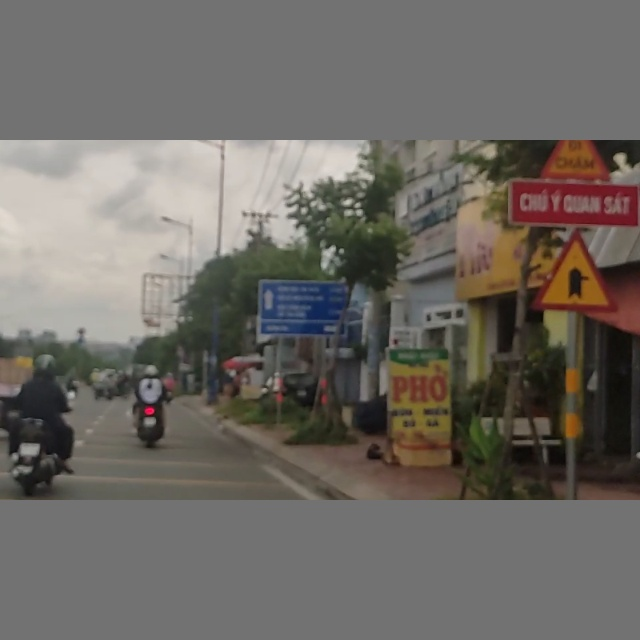W.207: (529, 233, 623, 313)
